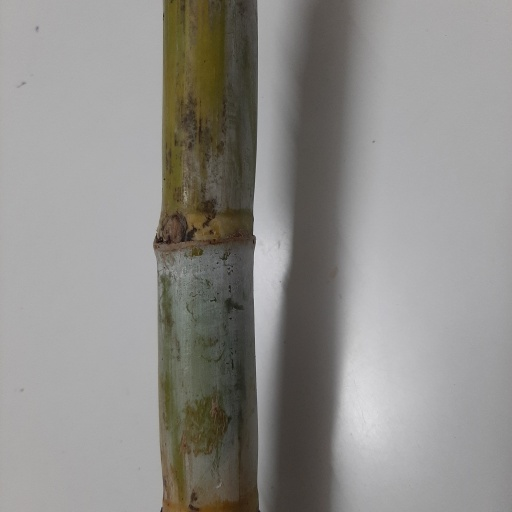Bud: (160, 214, 187, 245)
